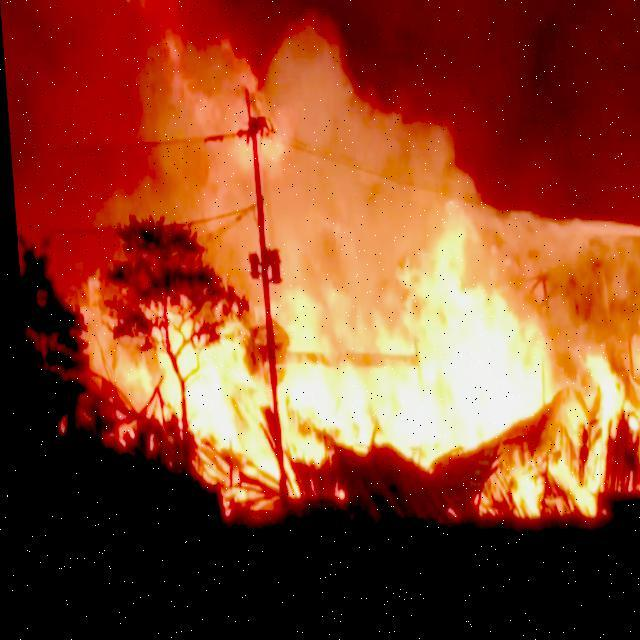Fire: (64, 205, 548, 458), (495, 350, 639, 512)
